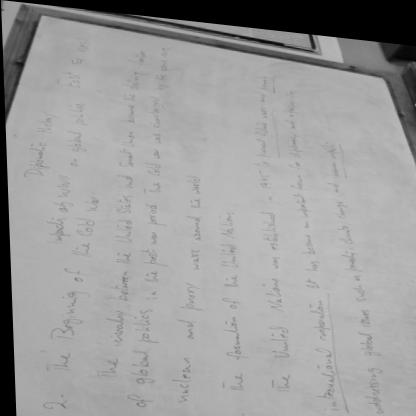Handwritten text: (118, 37, 191, 416), (235, 62, 300, 399), (276, 76, 340, 409), (315, 122, 388, 411), (87, 41, 148, 380), (30, 183, 104, 383), (165, 164, 206, 404), (37, 91, 92, 251), (207, 203, 251, 390), (18, 101, 61, 184), (44, 28, 94, 90)
Whiteboard: (7, 7, 416, 416)
